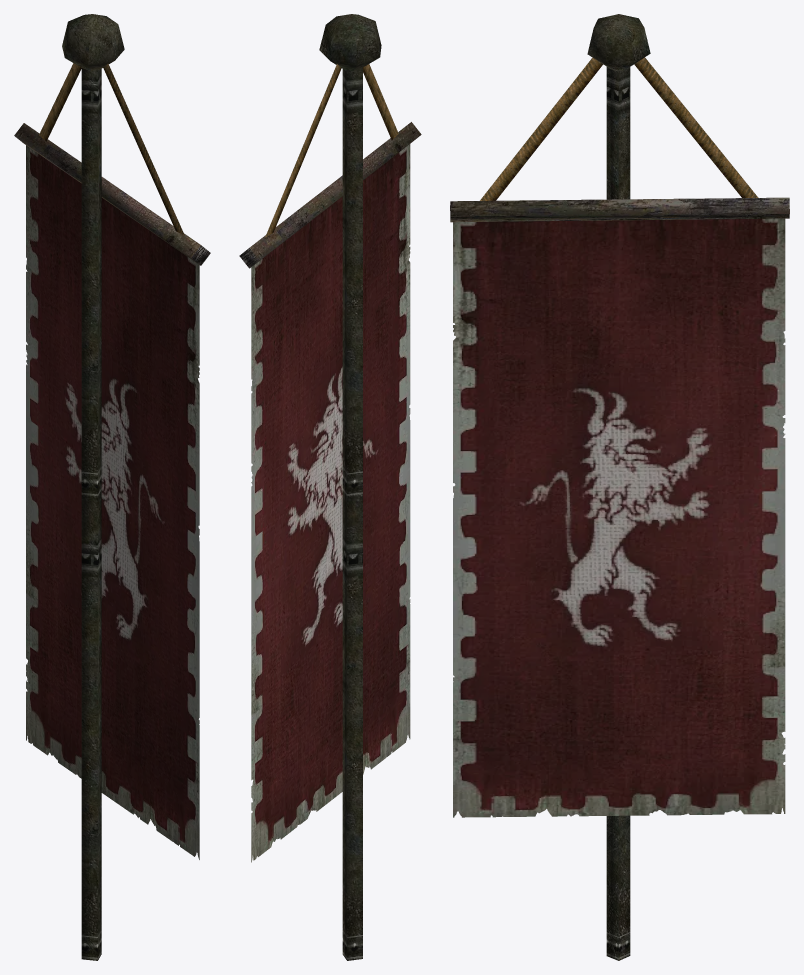
File: GS_MYRTANA_FLAG_STANDING_01.glb
3 renders of one model, left to right at view 1: azimuth 30°, elevation 25°; view 2: azimuth 150°, elevation 25°; view 3: azimuth 270°, elevation 25°, orthographic.
Parts seen in each view (by area): view 1: Mesh; view 2: Mesh; view 3: Mesh.
Part boxes in pixels (x1,y1,x2,y2): Mesh: (14,14,210,960); Mesh: (239,14,421,960); Mesh: (450,14,789,960).
Bounding box in the file's own units: 0.4336 × 6.25 × 2.04.
Materials: 4 (4 with a texture image).
